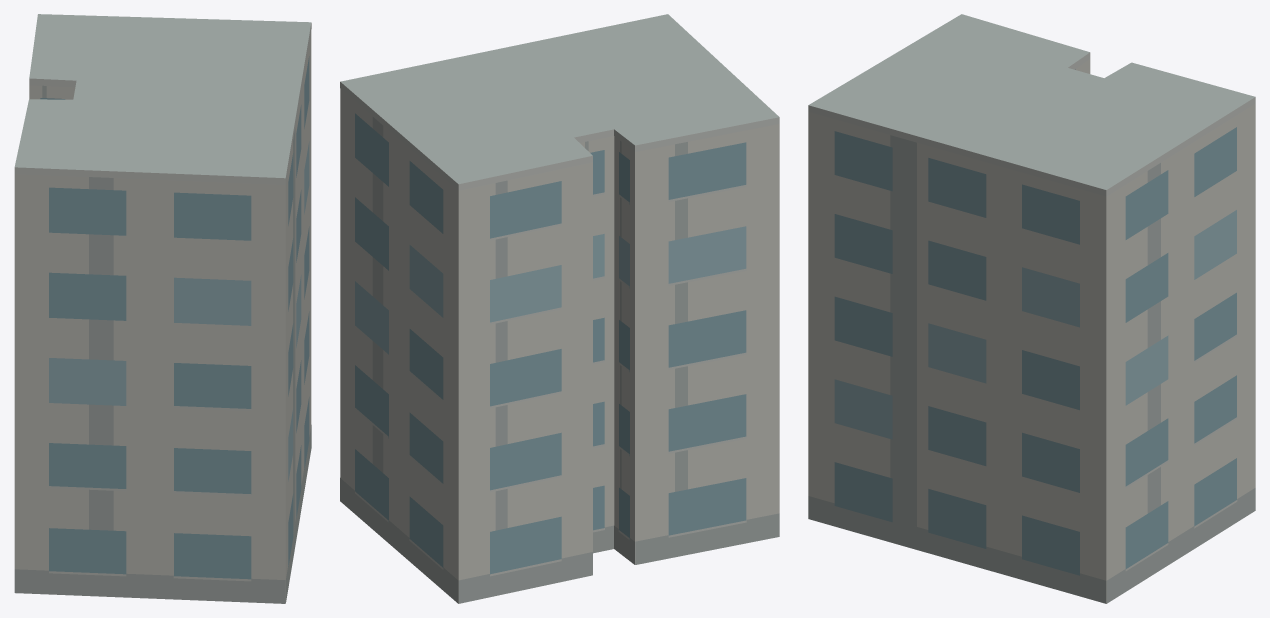
The model's file is survey-upis-32891171.glb.
3 views of the same model, side by side, from view 1: azimuth 30°, elevation 25°; view 2: azimuth 150°, elevation 25°; view 3: azimuth 270°, elevation 25° (orthographic). The views are drawn at different scales.
Visible parts, largest first — view 1: survey-upis-32891171.tmp; view 2: survey-upis-32891171.tmp; view 3: survey-upis-32891171.tmp.
Boxes of the visible parts, x1,y1,x2,y2 form: survey-upis-32891171.tmp: (14,14,311,603); survey-upis-32891171.tmp: (340,14,779,603); survey-upis-32891171.tmp: (808,14,1255,603).
Bounding box in the file's own units: 14.16 × 15.5 × 15.2.
